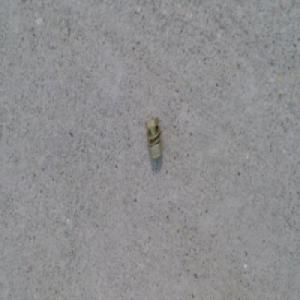BoltNutSet: (143, 115, 163, 165)
